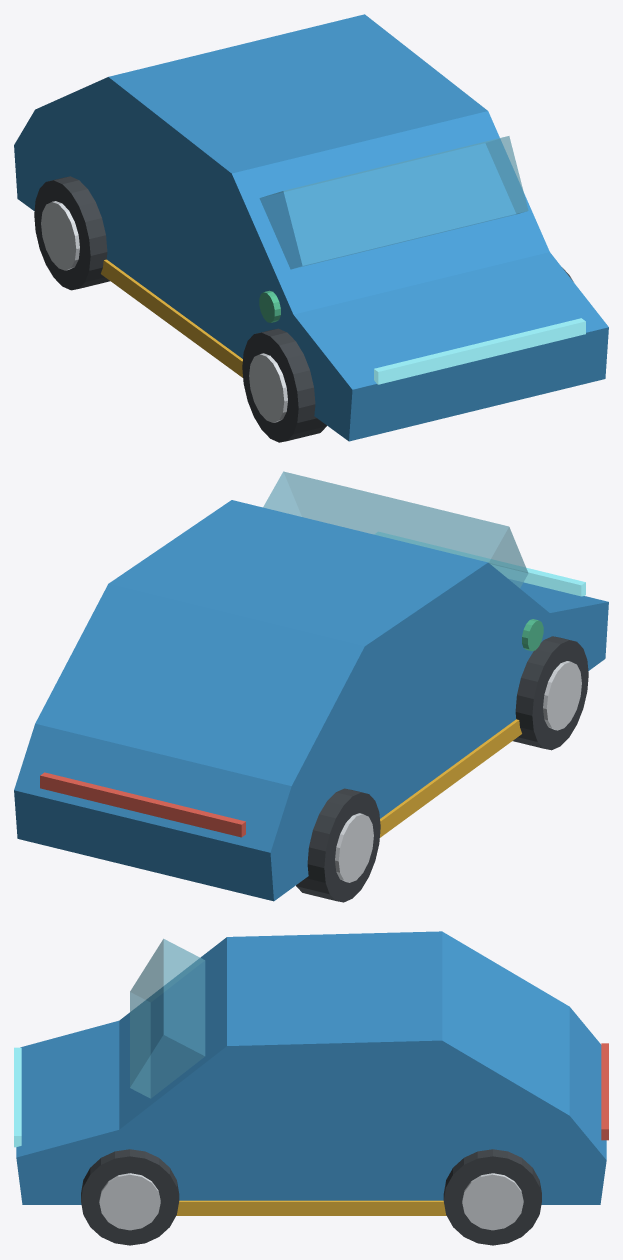
Rendered from ENERGY-026.glb.
The picture shows the model from 3 angles, top to bottom: view 1: azimuth 30°, elevation 25°; view 2: azimuth 150°, elevation 25°; view 3: azimuth 270°, elevation 25°; orthographic projection. The views are drawn at different scales.
Visible parts, largest first — view 1: ENERGY-026; view 2: ENERGY-026; view 3: ENERGY-026.
Boxes of the visible parts, x1,y1,x2,y2 form: ENERGY-026: [14, 14, 608, 442]; ENERGY-026: [14, 471, 608, 902]; ENERGY-026: [14, 931, 608, 1245].
Size of the model in its own units: 1.95 by 1.42 by 3.87.
